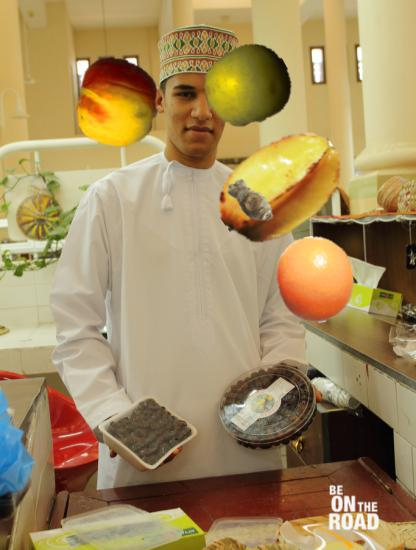Apple: (74, 59, 163, 148), (205, 43, 291, 129)
Carambula: (214, 121, 348, 255)
Ginger: (223, 174, 279, 230)
Grapefruit: (272, 236, 359, 323)
